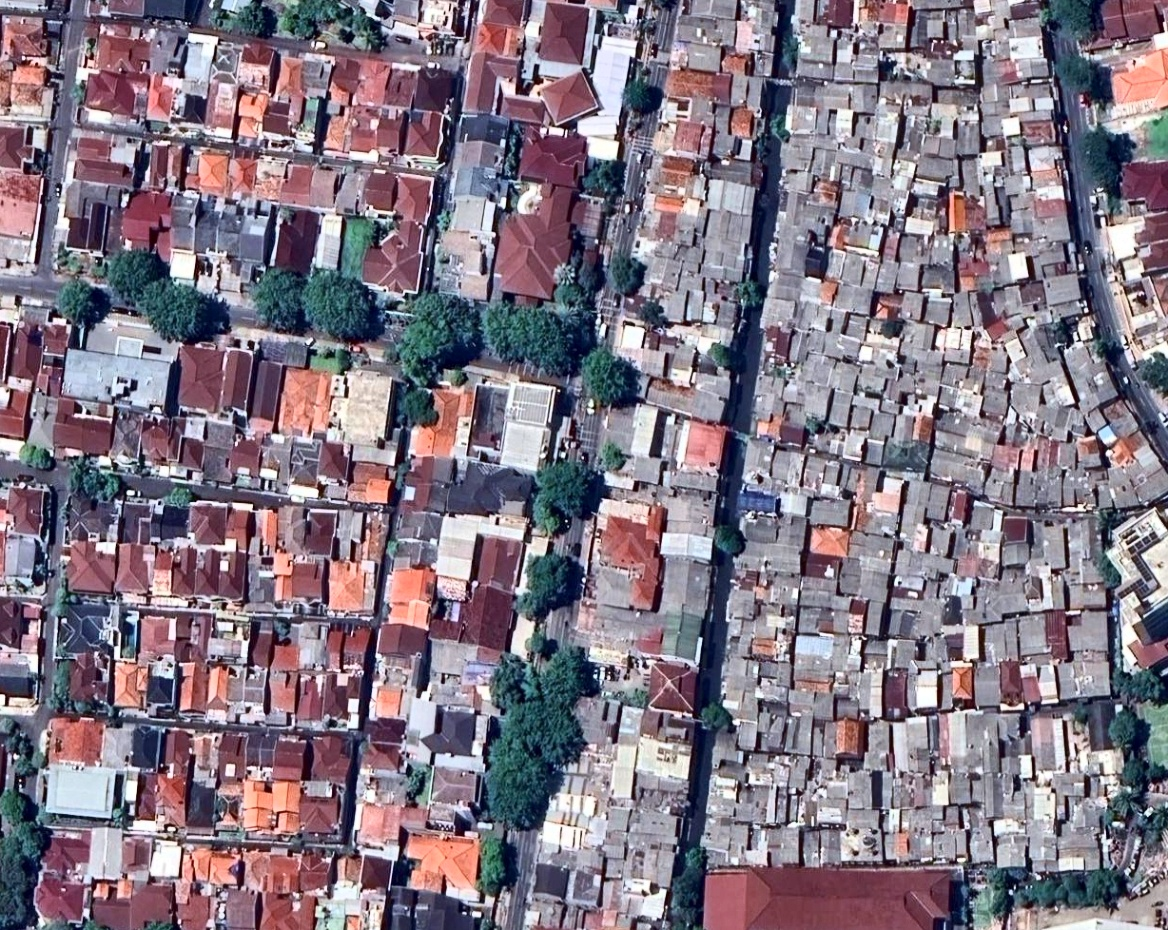building: (519, 654, 714, 930), (593, 703, 698, 893), (245, 489, 390, 612), (704, 867, 951, 929), (709, 752, 819, 865), (187, 727, 288, 836), (490, 179, 578, 304), (1083, 392, 1168, 514), (1101, 211, 1167, 367), (1106, 508, 1167, 675), (572, 601, 701, 675), (572, 31, 638, 161), (996, 319, 1076, 420), (593, 502, 666, 612), (433, 512, 525, 595), (830, 529, 898, 638), (61, 347, 175, 412), (649, 554, 715, 665), (188, 190, 280, 269), (1055, 336, 1127, 433), (366, 620, 431, 725), (256, 433, 349, 502), (53, 177, 130, 259), (443, 458, 536, 524), (427, 223, 502, 304), (408, 379, 477, 465), (496, 380, 558, 473), (632, 707, 697, 794), (359, 215, 427, 297), (401, 831, 481, 900), (539, 788, 610, 856), (335, 368, 395, 448), (168, 545, 249, 604), (535, 64, 605, 132), (455, 581, 519, 653), (517, 127, 590, 189), (735, 513, 806, 576), (431, 509, 489, 585), (696, 208, 753, 285), (594, 513, 663, 576), (797, 576, 868, 637), (276, 366, 335, 439), (49, 396, 117, 459), (183, 146, 259, 202), (385, 504, 444, 575), (105, 406, 168, 472), (887, 540, 956, 600), (646, 373, 730, 422), (44, 763, 116, 820), (0, 167, 43, 262), (599, 484, 668, 543), (1111, 47, 1167, 119), (930, 408, 1002, 464), (137, 611, 212, 663), (269, 204, 323, 276), (398, 448, 456, 515), (386, 886, 476, 929), (938, 711, 999, 774), (173, 343, 225, 414), (536, 0, 591, 67), (616, 645, 701, 687), (924, 444, 991, 497), (56, 600, 115, 660), (295, 671, 359, 726), (384, 563, 436, 630), (241, 778, 302, 835), (244, 358, 287, 438), (467, 382, 509, 463), (121, 191, 171, 258), (81, 68, 144, 121), (64, 539, 119, 597), (972, 574, 1032, 625), (645, 659, 699, 715), (1055, 648, 1112, 701), (473, 534, 524, 593), (162, 192, 203, 265), (421, 705, 478, 757), (46, 715, 104, 766), (63, 493, 121, 543), (966, 288, 1015, 347), (622, 838, 677, 890), (854, 0, 911, 50), (1100, 0, 1167, 42), (856, 0, 912, 50), (460, 51, 502, 117), (988, 20, 1048, 66), (32, 875, 86, 925), (901, 175, 950, 230), (663, 67, 733, 105), (987, 775, 1036, 829), (292, 618, 340, 673), (804, 524, 851, 580), (981, 237, 1031, 289), (854, 485, 903, 538), (680, 419, 728, 473), (733, 0, 778, 56), (402, 108, 447, 164), (94, 32, 151, 76), (411, 64, 460, 115), (218, 347, 255, 413), (203, 74, 240, 140), (181, 847, 242, 887), (227, 212, 272, 266), (796, 22, 837, 81), (1120, 160, 1167, 211), (428, 638, 480, 684), (582, 537, 613, 614), (141, 26, 186, 79), (7, 323, 46, 384), (793, 634, 834, 692), (346, 460, 396, 507), (84, 826, 125, 883), (1032, 401, 1086, 444), (661, 493, 715, 536), (309, 733, 352, 787), (392, 172, 435, 226), (25, 393, 62, 455), (145, 140, 189, 192), (897, 478, 932, 543), (10, 64, 52, 118), (355, 802, 403, 849), (43, 830, 90, 878), (4, 484, 47, 536), (0, 596, 41, 650), (668, 116, 715, 163), (652, 149, 699, 196), (429, 765, 480, 808), (829, 633, 862, 699), (201, 421, 236, 483), (702, 770, 740, 827), (185, 730, 223, 787), (138, 419, 185, 465), (627, 806, 681, 846), (206, 617, 251, 665), (0, 532, 40, 586), (1041, 272, 1085, 321), (114, 542, 153, 597), (897, 101, 932, 162), (312, 211, 347, 272), (596, 402, 637, 454), (859, 316, 902, 365), (1063, 469, 1114, 510), (72, 155, 133, 189), (703, 177, 756, 216), (983, 306, 1031, 349), (236, 42, 276, 93), (353, 57, 392, 109), (787, 196, 835, 238), (659, 528, 715, 564), (260, 893, 316, 929), (1030, 713, 1065, 770), (1136, 211, 1167, 275), (128, 884, 172, 929), (925, 51, 977, 89), (328, 561, 366, 613), (497, 91, 550, 128), (181, 33, 219, 84), (0, 16, 46, 58), (945, 189, 986, 236), (110, 661, 149, 710), (393, 507, 443, 545), (325, 55, 363, 105), (575, 696, 612, 747), (360, 168, 399, 216), (882, 436, 931, 474), (627, 402, 659, 460), (1057, 827, 1100, 870), (957, 586, 1000, 629), (382, 63, 420, 111), (1068, 517, 1101, 572), (262, 852, 303, 896), (227, 666, 267, 711), (608, 743, 638, 802), (1067, 610, 1109, 652), (264, 667, 300, 716), (633, 294, 676, 335), (980, 619, 1019, 664), (452, 139, 502, 174), (331, 167, 366, 217), (145, 660, 179, 711), (271, 735, 307, 783), (139, 615, 175, 663), (0, 387, 32, 441), (251, 155, 287, 203), (758, 827, 801, 867), (786, 687, 836, 721), (243, 730, 279, 777), (194, 150, 230, 197), (185, 780, 218, 831), (1032, 237, 1073, 278), (933, 324, 974, 365), (299, 795, 340, 836), (980, 466, 1020, 508), (188, 502, 227, 545), (1032, 198, 1070, 242), (407, 452, 456, 486), (177, 661, 209, 713), (99, 723, 134, 770), (130, 724, 165, 771), (887, 49, 935, 83), (287, 439, 321, 487), (340, 623, 372, 673), (451, 165, 498, 199), (715, 211, 752, 254), (278, 162, 313, 207), (378, 624, 427, 656), (321, 107, 353, 156), (156, 774, 185, 828), (774, 231, 808, 277), (247, 556, 277, 608), (727, 824, 765, 865), (566, 867, 603, 909), (225, 154, 258, 201), (162, 728, 193, 778), (479, 49, 523, 84), (223, 504, 255, 552), (373, 109, 405, 157), (1015, 613, 1049, 658), (247, 619, 277, 670), (145, 74, 176, 123), (450, 194, 487, 235), (148, 839, 184, 881), (142, 0, 205, 24), (808, 524, 851, 559), (668, 466, 718, 496), (880, 81, 928, 112), (899, 320, 936, 360), (295, 675, 324, 726), (763, 541, 804, 577), (750, 614, 782, 660), (307, 165, 339, 211), (832, 281, 874, 316), (238, 848, 272, 891), (676, 14, 723, 45), (532, 862, 570, 900), (766, 268, 805, 305), (769, 447, 805, 487), (743, 438, 775, 483), (260, 99, 295, 140), (118, 501, 152, 543), (817, 780, 848, 826), (1028, 822, 1057, 871), (317, 441, 350, 484), (238, 92, 268, 139), (760, 296, 797, 334), (1043, 609, 1070, 661), (218, 733, 244, 787), (1042, 272, 1082, 307), (224, 889, 259, 929), (736, 485, 781, 516), (709, 156, 755, 186), (69, 652, 97, 701), (774, 513, 810, 551), (841, 828, 880, 863), (700, 816, 735, 855), (734, 785, 769, 824), (974, 529, 1001, 579), (784, 324, 816, 366), (349, 106, 377, 154), (849, 465, 880, 508), (407, 697, 438, 740), (795, 299, 832, 335), (991, 284, 1028, 320), (798, 576, 837, 610), (1086, 701, 1113, 750), (479, 0, 528, 27), (799, 382, 832, 422), (298, 853, 331, 893), (228, 438, 261, 478), (682, 41, 723, 73), (666, 342, 697, 384), (133, 771, 159, 821), (1008, 382, 1042, 420), (759, 324, 793, 362), (177, 891, 211, 929), (778, 402, 808, 445), (782, 716, 814, 756), (158, 503, 190, 543), (915, 154, 956, 185), (296, 95, 323, 142), (364, 716, 406, 746), (370, 684, 405, 720), (0, 661, 34, 698), (926, 100, 959, 138), (205, 665, 230, 715), (618, 594, 657, 626), (973, 662, 1000, 708), (983, 369, 1006, 423), (361, 740, 401, 771), (275, 56, 303, 100), (908, 670, 938, 711), (798, 454, 828, 495), (663, 548, 704, 578), (979, 219, 1014, 254), (865, 720, 890, 769), (855, 362, 889, 398), (998, 660, 1024, 707), (765, 753, 798, 790), (210, 41, 243, 78), (809, 498, 851, 527), (908, 12, 940, 50), (1046, 918, 1156, 929), (90, 898, 129, 929), (759, 710, 787, 753), (1041, 524, 1067, 570), (837, 186, 871, 221), (302, 56, 331, 97), (922, 293, 955, 329), (360, 855, 393, 891), (918, 633, 950, 670), (824, 331, 862, 362), (838, 250, 869, 288), (967, 823, 995, 865), (582, 750, 606, 799), (0, 597, 23, 648), (835, 718, 864, 758), (707, 129, 740, 164), (637, 345, 670, 380), (979, 386, 1010, 423), (1107, 223, 1137, 261), (616, 705, 643, 747), (883, 670, 906, 719), (779, 139, 813, 172), (1071, 798, 1106, 830), (420, 0, 457, 30), (924, 482, 951, 523), (827, 388, 854, 429), (0, 126, 26, 168), (1068, 347, 1101, 380), (952, 387, 986, 419), (108, 134, 140, 168), (1026, 142, 1061, 173), (811, 427, 846, 458), (907, 351, 942, 382), (628, 455, 663, 486), (915, 598, 942, 638), (920, 263, 956, 293), (727, 104, 757, 140), (123, 836, 151, 874), (1018, 663, 1042, 707), (934, 85, 978, 109), (829, 360, 860, 394), (797, 354, 831, 385), (288, 584, 327, 611), (1035, 663, 1060, 705), (1009, 193, 1034, 235), (927, 233, 957, 268), (1007, 18, 1043, 47), (890, 721, 910, 773), (794, 634, 834, 660), (642, 254, 670, 291), (1036, 466, 1061, 507), (834, 145, 875, 170), (933, 829, 965, 861), (874, 178, 906, 210), (958, 259, 989, 292), (1074, 435, 1103, 470), (176, 437, 205, 472), (1031, 786, 1057, 825), (1039, 566, 1062, 610), (696, 324, 732, 352), (427, 616, 463, 644), (1033, 198, 1066, 228), (980, 183, 1002, 228), (947, 488, 973, 526), (1028, 165, 1062, 194), (1087, 748, 1121, 777), (712, 732, 741, 766), (1021, 119, 1057, 146), (959, 157, 981, 201), (996, 711, 1027, 742), (990, 442, 1021, 473), (995, 835, 1025, 867), (34, 363, 63, 396), (1027, 80, 1055, 114), (1008, 34, 1043, 61), (742, 517, 778, 543), (905, 773, 931, 809), (1078, 581, 1108, 612), (969, 501, 999, 532), (753, 390, 783, 421), (867, 410, 896, 442), (777, 489, 809, 518), (179, 93, 208, 125), (777, 194, 805, 227), (781, 167, 814, 195), (847, 770, 871, 808), (1014, 56, 1049, 82), (873, 292, 903, 322), (874, 259, 899, 295), (897, 234, 927, 264), (822, 82, 852, 112), (727, 589, 756, 620), (1018, 280, 1046, 312), (573, 846, 605, 874), (809, 147, 836, 180), (951, 665, 973, 705), (909, 388, 938, 418), (777, 420, 808, 448), (1001, 421, 1032, 449), (1052, 773, 1088, 797), (873, 111, 899, 144), (42, 322, 68, 355), (787, 754, 810, 791), (983, 59, 1017, 84), (975, 11, 1003, 41), (76, 136, 111, 160), (819, 828, 841, 866), (274, 553, 291, 602), (899, 290, 925, 322), (805, 243, 828, 279), (956, 122, 980, 156), (797, 60, 834, 82), (940, 361, 968, 390), (843, 312, 870, 342), (1002, 171, 1032, 198), (688, 97, 715, 127), (841, 431, 866, 463), (910, 412, 935, 444), (884, 832, 909, 864), (744, 76, 765, 114), (1015, 471, 1037, 507), (849, 112, 871, 148), (728, 74, 752, 107), (683, 288, 705, 324), (271, 643, 299, 671), (789, 106, 816, 135), (850, 85, 877, 114), (906, 716, 929, 750), (823, 248, 846, 282), (675, 211, 698, 245), (848, 403, 874, 433), (719, 686, 745, 716), (20, 615, 40, 654), (871, 771, 892, 808), (663, 290, 687, 322), (181, 802, 209, 829), (826, 0, 853, 28), (896, 262, 921, 292), (881, 806, 906, 836), (957, 10, 976, 49), (104, 0, 145, 18), (903, 215, 935, 238), (909, 831, 932, 863), (759, 662, 791, 685), (951, 293, 972, 328), (713, 104, 730, 147), (754, 415, 782, 441), (848, 165, 876, 191), (620, 323, 646, 351), (392, 0, 420, 26), (824, 307, 849, 336), (801, 829, 820, 867), (846, 599, 866, 635), (714, 300, 738, 330), (260, 510, 278, 550), (1119, 256, 1145, 283), (1002, 516, 1029, 542), (1002, 542, 1029, 568), (1008, 0, 1043, 20), (853, 55, 878, 83), (846, 808, 879, 829), (1054, 440, 1077, 470), (902, 808, 932, 831), (114, 335, 144, 358), (956, 546, 978, 577), (908, 522, 930, 553), (829, 219, 851, 250), (794, 81, 820, 107), (1038, 438, 1059, 470), (1007, 252, 1029, 282), (870, 492, 900, 514), (736, 720, 757, 751), (653, 193, 684, 214), (931, 771, 949, 807), (881, 228, 900, 262), (986, 346, 1008, 375), (957, 235, 981, 261), (723, 656, 749, 680), (936, 385, 959, 412), (1092, 482, 1114, 510), (821, 459, 842, 488), (562, 771, 586, 796), (721, 52, 748, 74), (813, 692, 833, 721), (999, 115, 1023, 139), (814, 181, 838, 205), (727, 634, 751, 658), (893, 414, 913, 442), (806, 329, 827, 355), (818, 279, 839, 305), (1035, 184, 1065, 202), (824, 330, 842, 360), (835, 109, 853, 139), (1154, 275, 1167, 316), (794, 0, 817, 23), (800, 278, 822, 302), (864, 439, 884, 465), (774, 787, 788, 824), (964, 626, 979, 660), (1019, 444, 1037, 472), (866, 224, 884, 252), (872, 196, 890, 224), (735, 137, 755, 162), (1019, 109, 1052, 124), (823, 721, 836, 759), (682, 246, 701, 272), (816, 807, 843, 825), (970, 776, 986, 806), (1062, 473, 1076, 507), (1008, 146, 1025, 173), (273, 552, 291, 576), (885, 378, 902, 403), (981, 84, 1000, 106), (938, 137, 957, 159), (1018, 754, 1034, 780), (816, 610, 834, 633), (219, 0, 250, 13), (836, 39, 852, 64), (926, 19, 945, 40), (1155, 393, 1167, 425), (834, 62, 853, 82), (873, 140, 892, 159), (953, 578, 973, 596), (944, 807, 960, 828), (982, 102, 1006, 116), (981, 151, 1002, 167), (836, 796, 848, 824), (152, 549, 169, 568), (816, 107, 828, 133), (782, 381, 796, 403), (853, 855, 882, 864), (876, 669, 882, 712), (476, 686, 491, 702), (858, 345, 872, 362), (483, 650, 500, 664), (590, 647, 610, 658), (716, 768, 729, 783), (663, 581, 674, 597), (1045, 233, 1064, 241), (330, 486, 341, 497), (796, 644, 802, 660), (914, 764, 927, 771)
tree: (399, 274, 494, 365), (476, 738, 565, 833), (501, 540, 588, 627), (512, 689, 595, 776), (521, 455, 602, 544), (562, 335, 646, 418), (134, 270, 215, 352), (95, 237, 170, 312), (514, 301, 576, 380), (304, 275, 374, 344), (527, 643, 600, 709), (44, 271, 112, 338), (59, 456, 129, 511), (252, 270, 307, 335), (1077, 125, 1124, 201), (669, 842, 711, 925), (329, 215, 380, 283), (474, 301, 529, 364), (394, 322, 448, 384), (1109, 657, 1168, 711), (2, 837, 36, 929), (487, 654, 541, 711), (0, 714, 46, 777), (547, 280, 595, 337), (281, 0, 342, 43), (1039, 0, 1101, 41), (471, 835, 512, 895), (1057, 52, 1105, 101), (602, 252, 650, 300), (1081, 863, 1129, 911), (343, 4, 390, 53), (1114, 751, 1166, 795), (1012, 878, 1083, 909), (393, 387, 438, 431), (695, 695, 740, 739), (618, 79, 664, 122), (9, 818, 52, 864), (708, 519, 751, 561), (1107, 707, 1147, 752), (582, 156, 625, 193), (16, 442, 59, 476), (1105, 784, 1143, 822), (232, 5, 275, 36), (398, 768, 432, 804), (0, 788, 31, 826), (1136, 805, 1168, 840), (47, 663, 68, 710), (703, 339, 734, 370), (733, 280, 763, 309), (1138, 358, 1163, 392), (988, 885, 1014, 917), (987, 867, 1026, 888), (329, 346, 356, 375), (776, 36, 799, 68), (163, 485, 196, 507), (49, 582, 68, 620), (768, 114, 794, 141), (1096, 557, 1117, 589), (598, 446, 627, 469), (331, 24, 356, 50), (109, 804, 132, 826), (521, 635, 541, 657), (71, 83, 90, 106), (432, 211, 452, 230), (373, 218, 394, 236), (478, 914, 496, 930), (803, 419, 821, 434)
